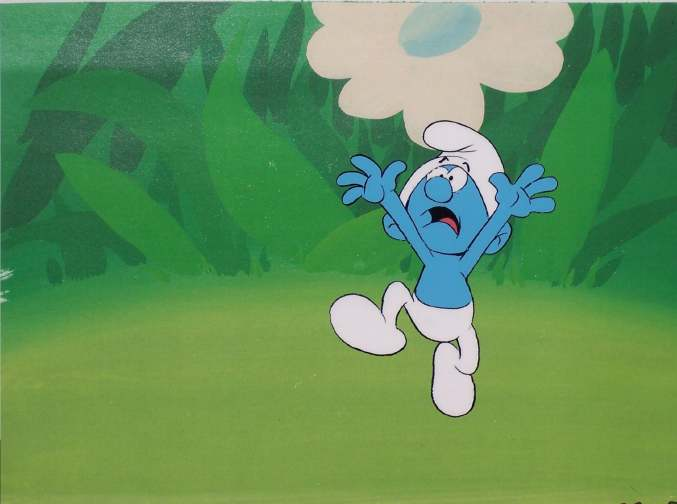smurf: (328, 116, 561, 416)
